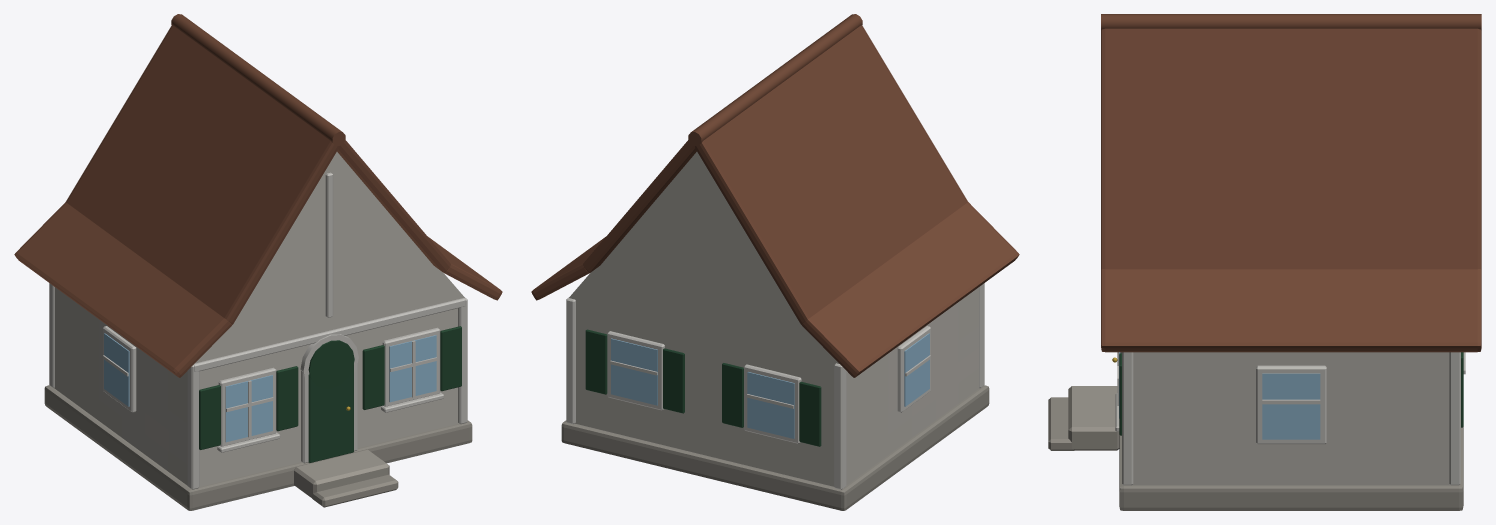
Rendered from cottage-5.glb.
3 renders of one model, left to right at view 1: azimuth 30°, elevation 25°; view 2: azimuth 150°, elevation 25°; view 3: azimuth 270°, elevation 25°, orthographic. The views are drawn at different scales.
Visible parts, largest first — view 1: cottage-5; view 2: cottage-5; view 3: cottage-5.
Part boxes in pixels (x1,y1,x2,y2): cottage-5: [14, 14, 502, 510]; cottage-5: [531, 14, 1019, 510]; cottage-5: [1048, 14, 1481, 510].
Size of the model in its own units: 7.74 by 7.9 by 7.48.
